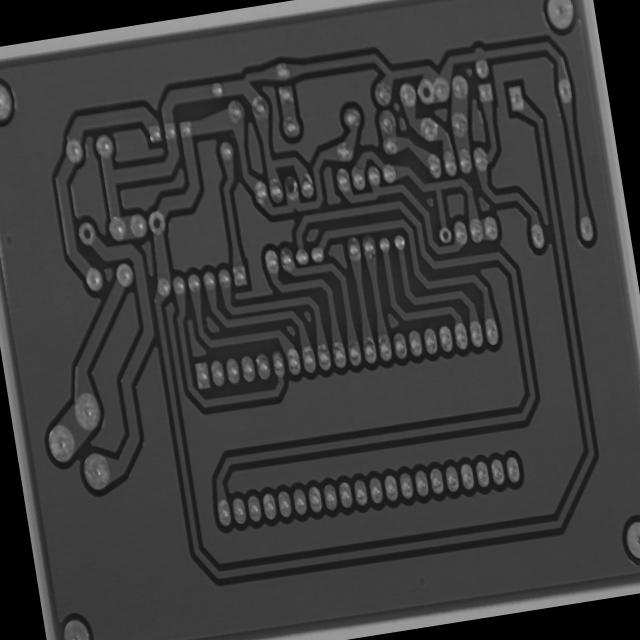missing_hole: (143, 207, 171, 240), (74, 215, 99, 249), (414, 76, 438, 106), (280, 174, 302, 202), (437, 222, 455, 244)
